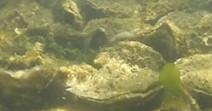3: (65, 59, 163, 109)
Oyster-Closed: (92, 40, 167, 75), (173, 54, 212, 99), (0, 67, 56, 91), (154, 22, 186, 61), (84, 0, 139, 18), (55, 0, 84, 29), (107, 29, 156, 44)
Oyster-Open: (82, 17, 154, 50), (156, 12, 198, 50), (158, 90, 200, 111), (91, 30, 107, 51)
